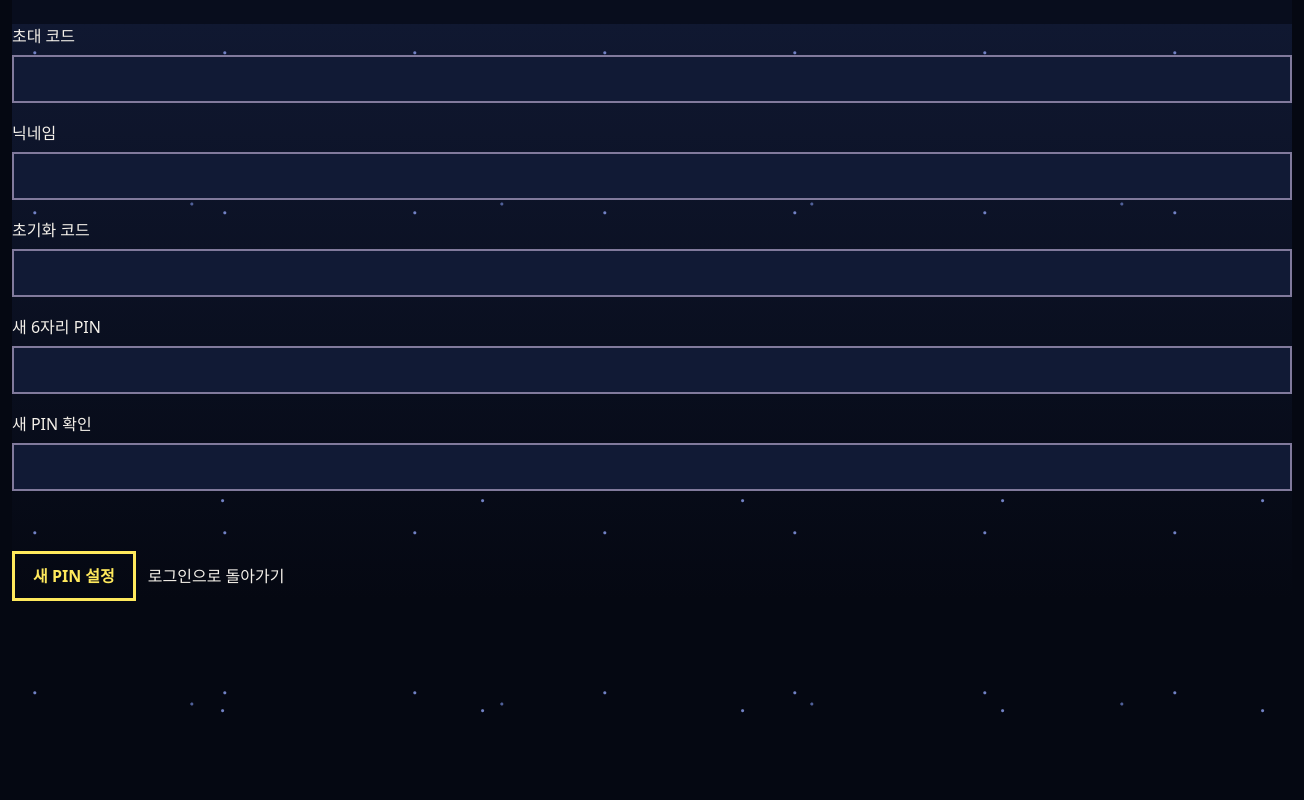
Test case: ResetPinForm › keeps the submitted form reference until a 204 response is handled
Type "test-invite-code-1234" into the password field labelled "초대 코드".
click(652, 79); type("test-invite-code-1234")  # box left=12, top=55, right=1292, bottom=103
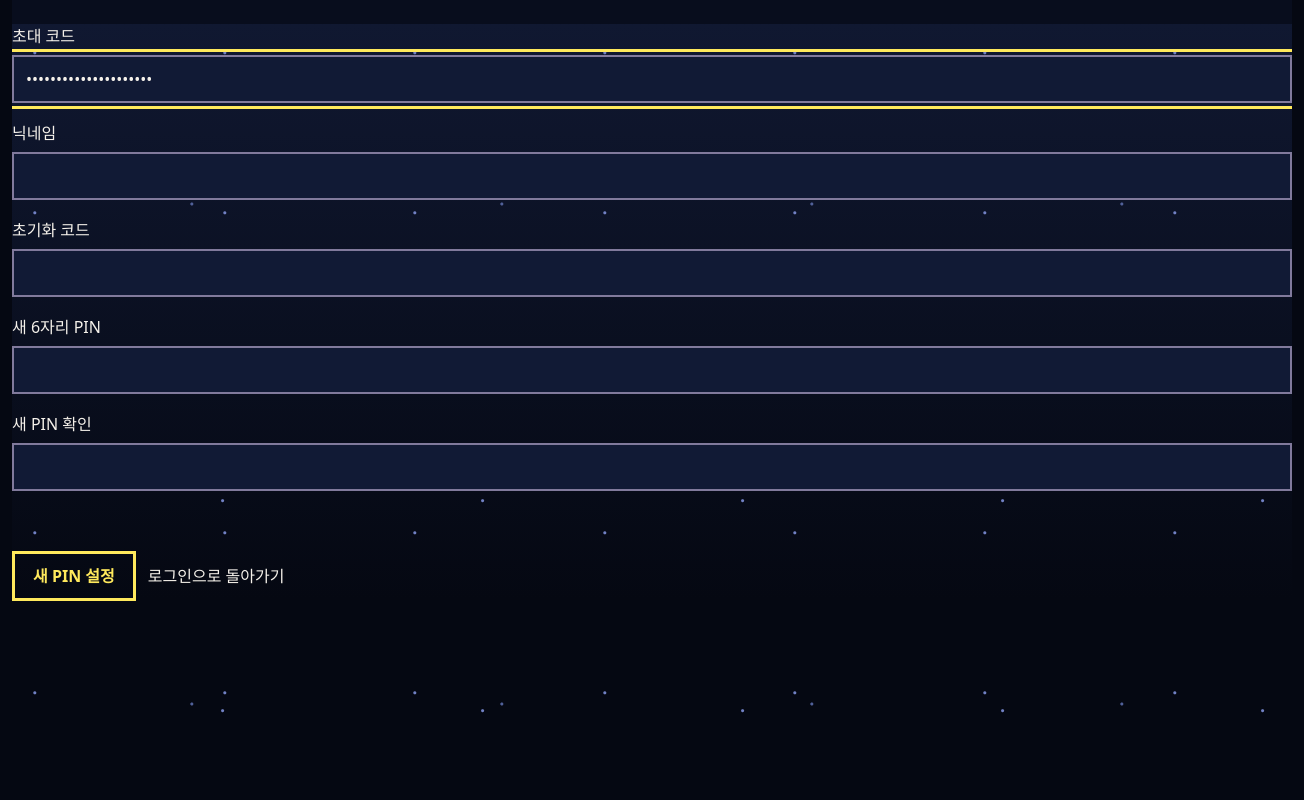
Type "복구참가자" into the field labelled "닉네임".
click(652, 176); type("복구참가자")  # box left=12, top=152, right=1292, bottom=200
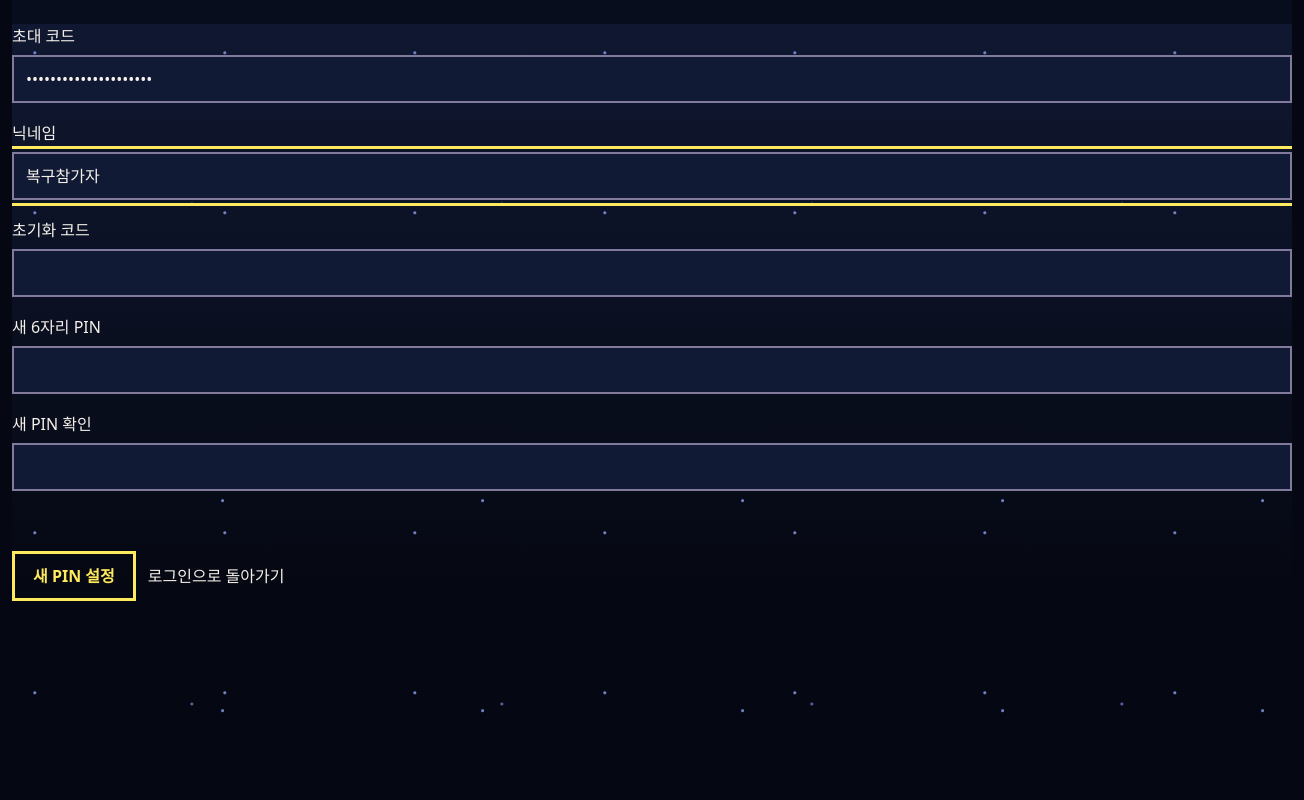
Type "12345678" into the field labelled "초기화 코드".
click(652, 273); type("12345678")  # box left=12, top=249, right=1292, bottom=297
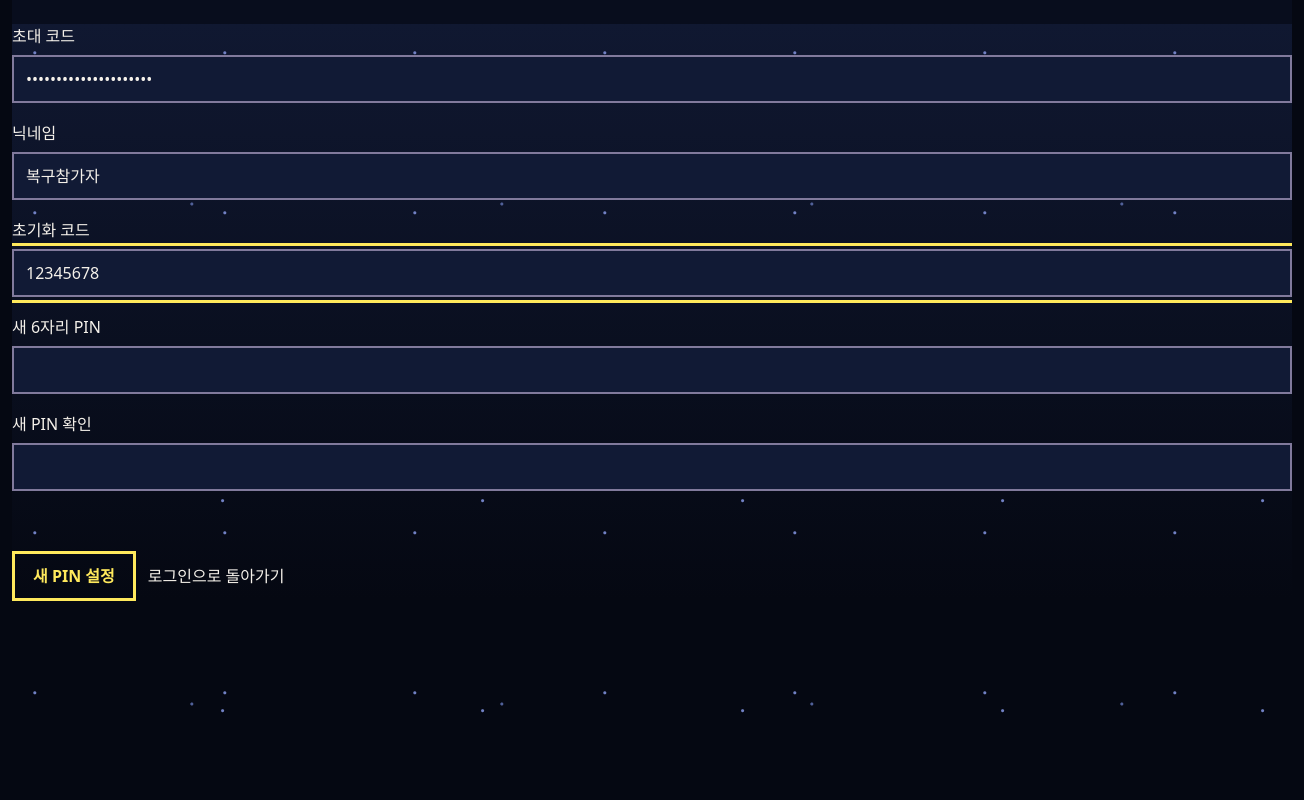
Type "654321" into the field labelled "새 6자리 PIN".
click(652, 370); type("654321")  # box left=12, top=346, right=1292, bottom=394
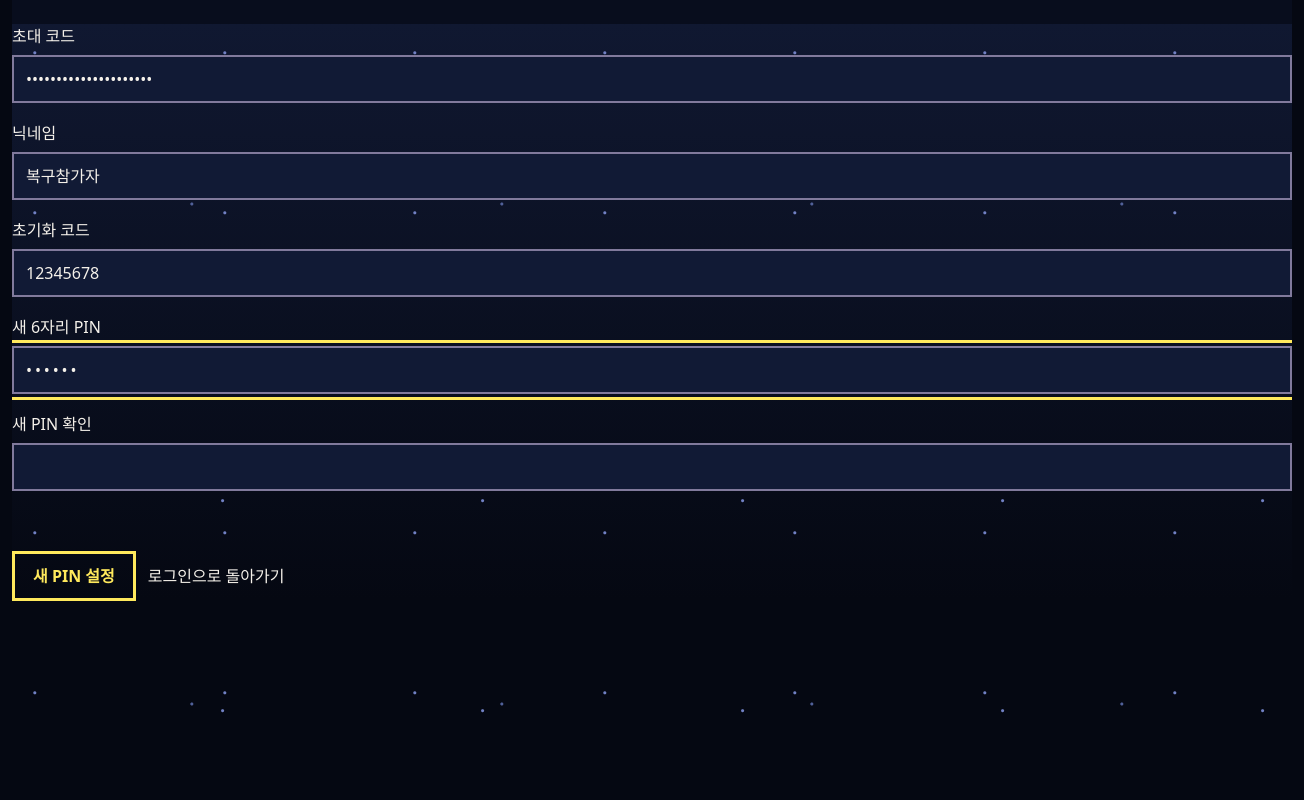
Type "654321" into the field labelled "새 PIN 확인".
click(652, 467); type("654321")  # box left=12, top=443, right=1292, bottom=491
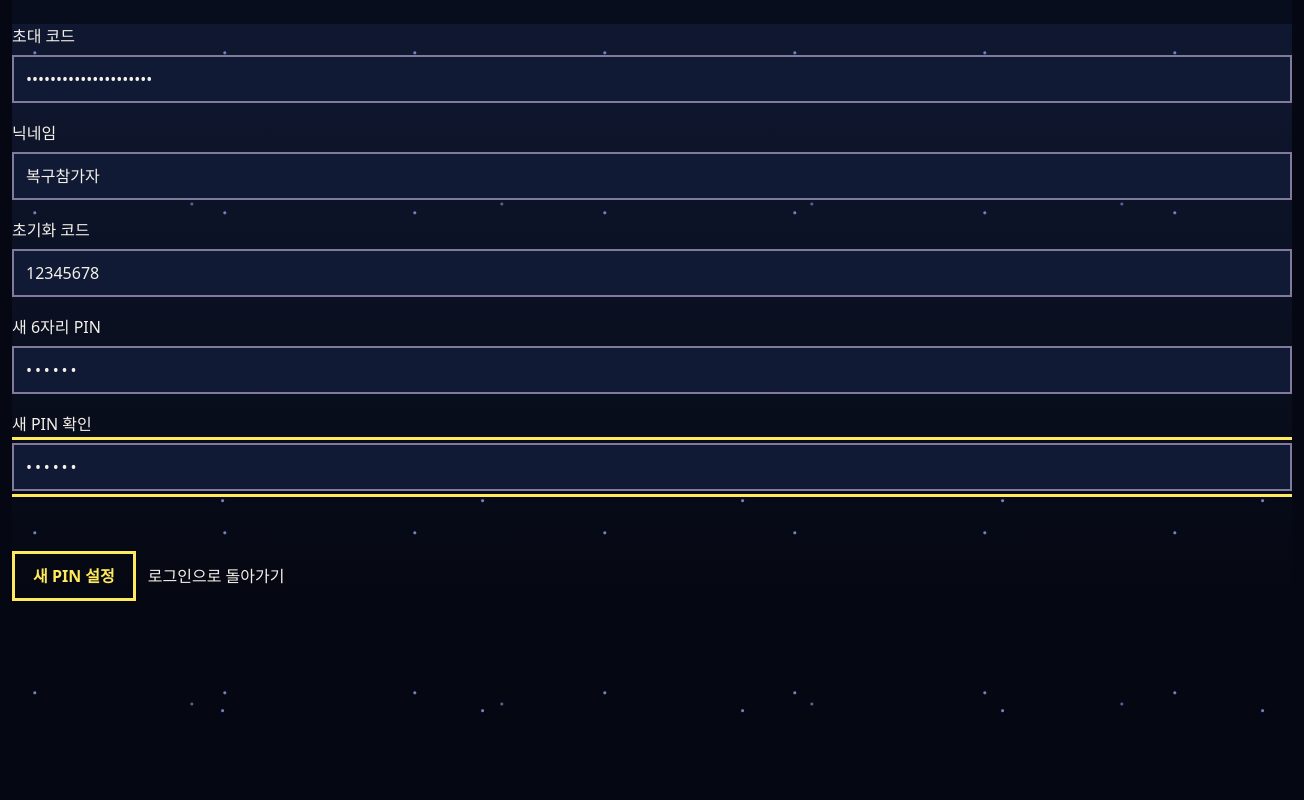
Click the button "새 PIN 설정".
click(74, 576)  # box left=12, top=551, right=136, bottom=601
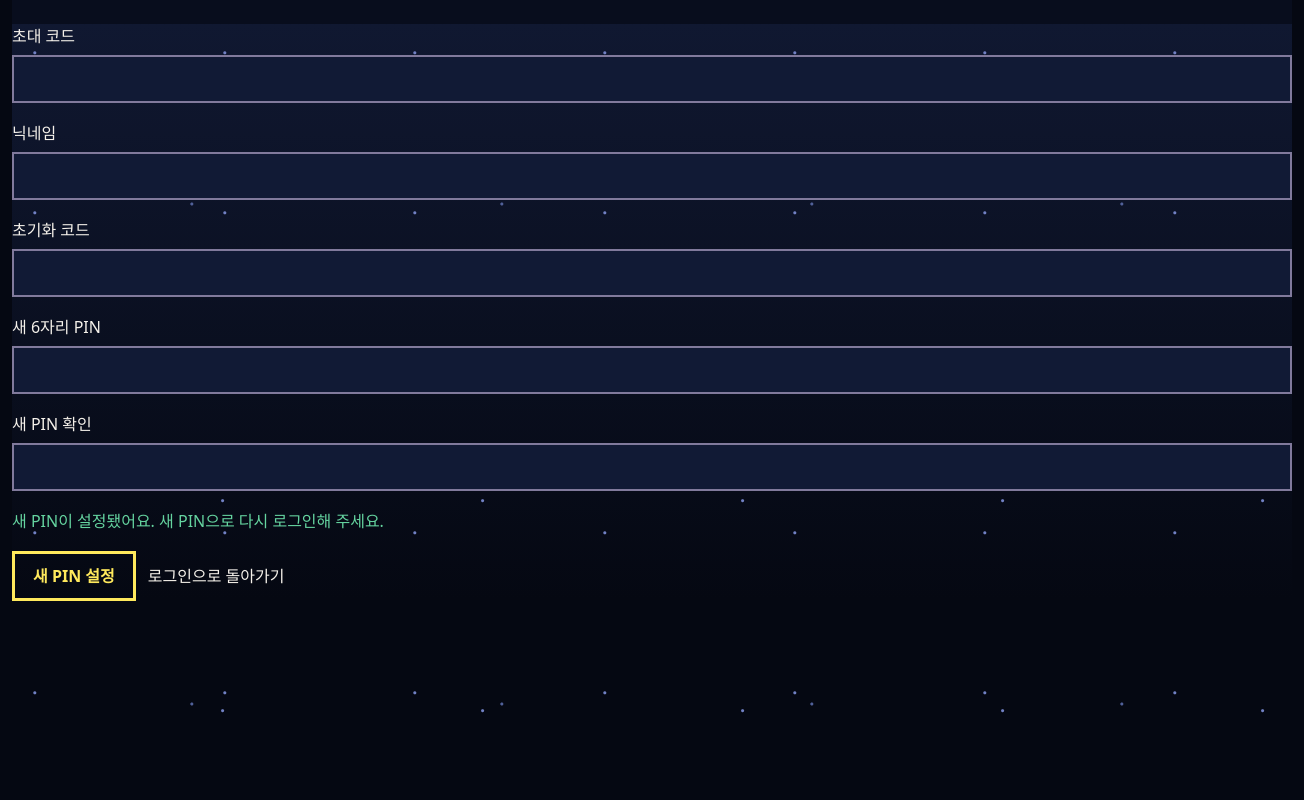
Result: the text "새 PIN이 설정됐어요. 새 PIN으로 다시 로그인해 주세요." is shown at left=12, top=510, right=384, bottom=532
Result: the password field labelled "초대 코드" is empty at left=12, top=55, right=1292, bottom=103
